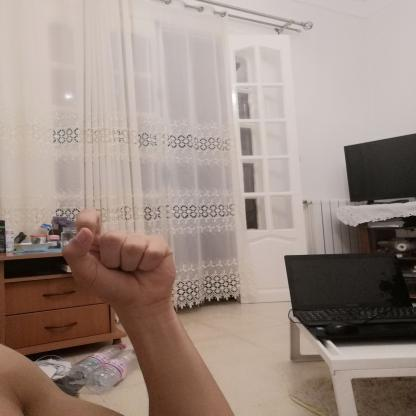FAA: (47, 200, 193, 317)
